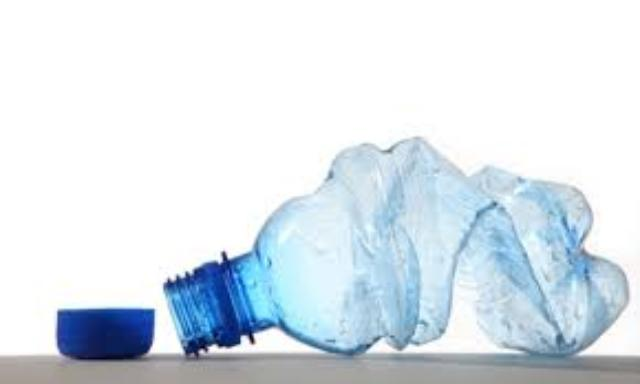plastic: (161, 137, 625, 349), (55, 309, 152, 358)
